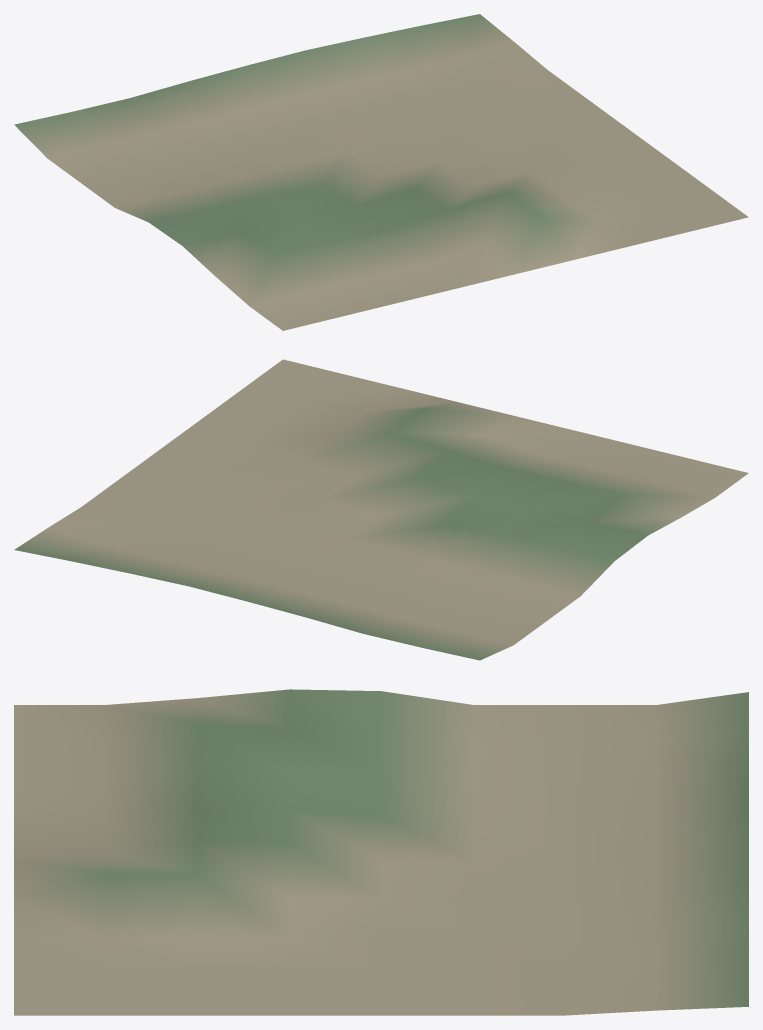
3 views of the same model, one above another, from view 1: azimuth 30°, elevation 25°; view 2: azimuth 150°, elevation 25°; view 3: azimuth 270°, elevation 25° (orthographic). The views are drawn at different scales.
Parts seen in each view (by area): view 1: Lo; view 2: Lo; view 3: Lo.
Boxes of the visible parts, x1,y1,x2,y2 form: Lo: [14, 14, 748, 330]; Lo: [14, 359, 748, 660]; Lo: [14, 689, 748, 1015].
Bounding box in the file's own units: 256 × 9.62 × 256.
